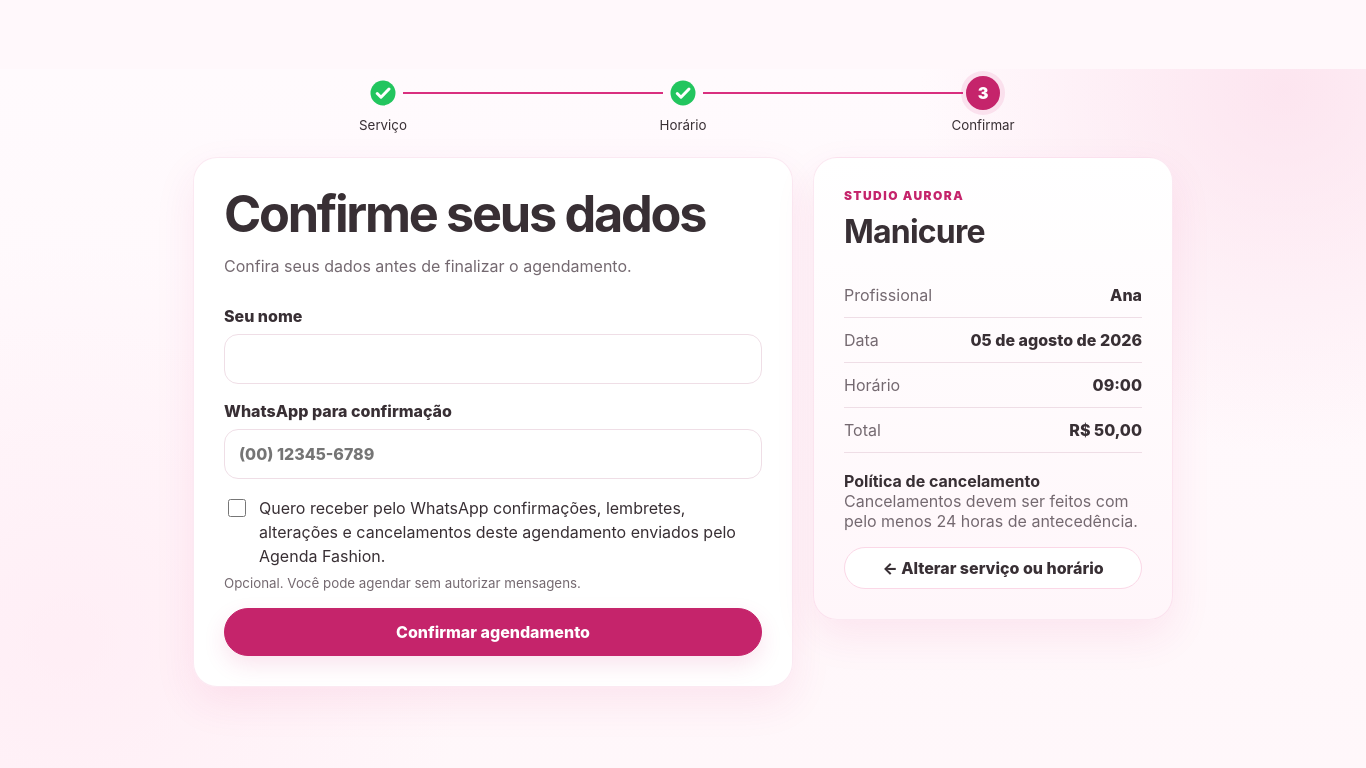
Test: confirmação do agendamento › recarrega e reapresenta a regra quando a política mudou
Expected: the text "Cancelamentos devem ser feitos com pelo menos 24 horas de antecedência." is shown, [844, 491, 1142, 531]
Type "Victor Souza" into the field labelled "Seu nome". click: (493, 359)
box: [224, 334, 762, 384]
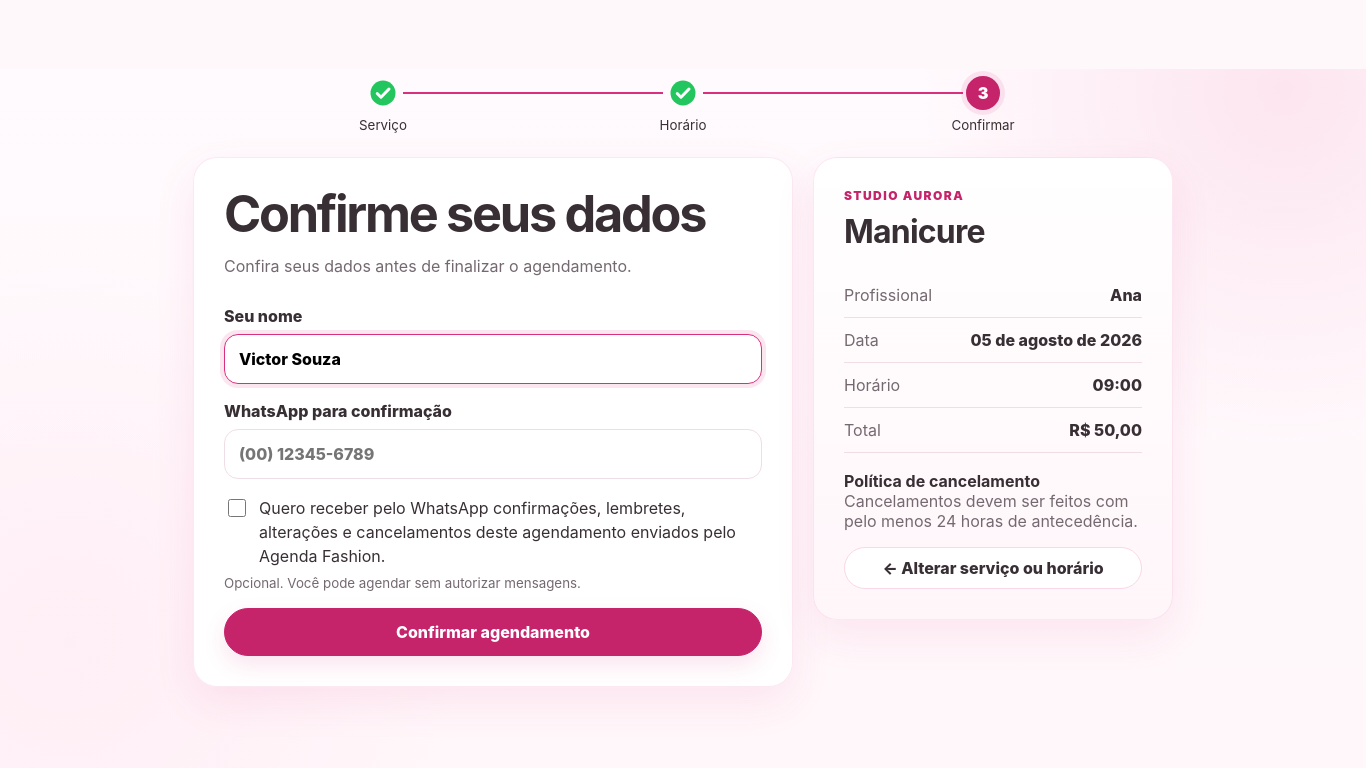
Type "62999998888" into the field labelled "WhatsApp para confirmação". click: (493, 454)
box: [224, 429, 762, 479]
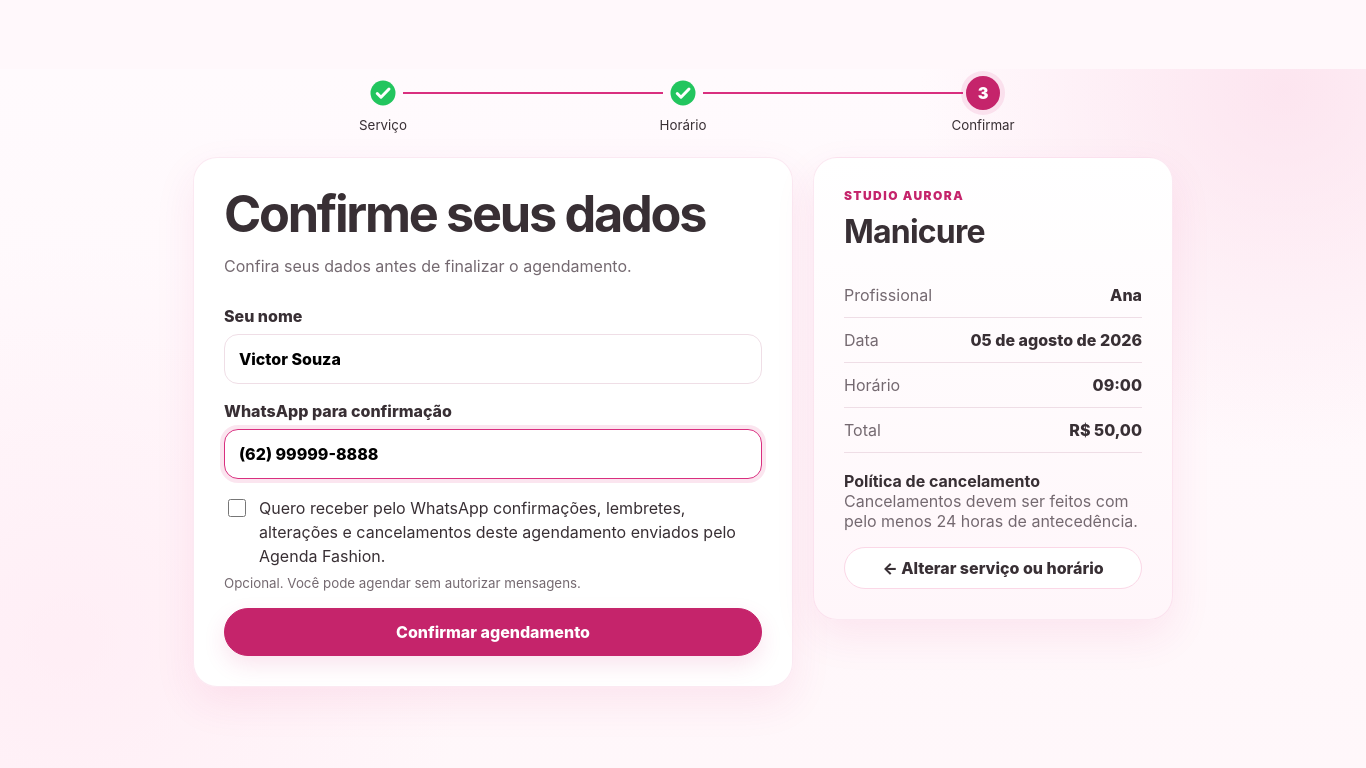
Click the button "Confirmar agendamento". click: (493, 632)
box: [224, 608, 762, 656]
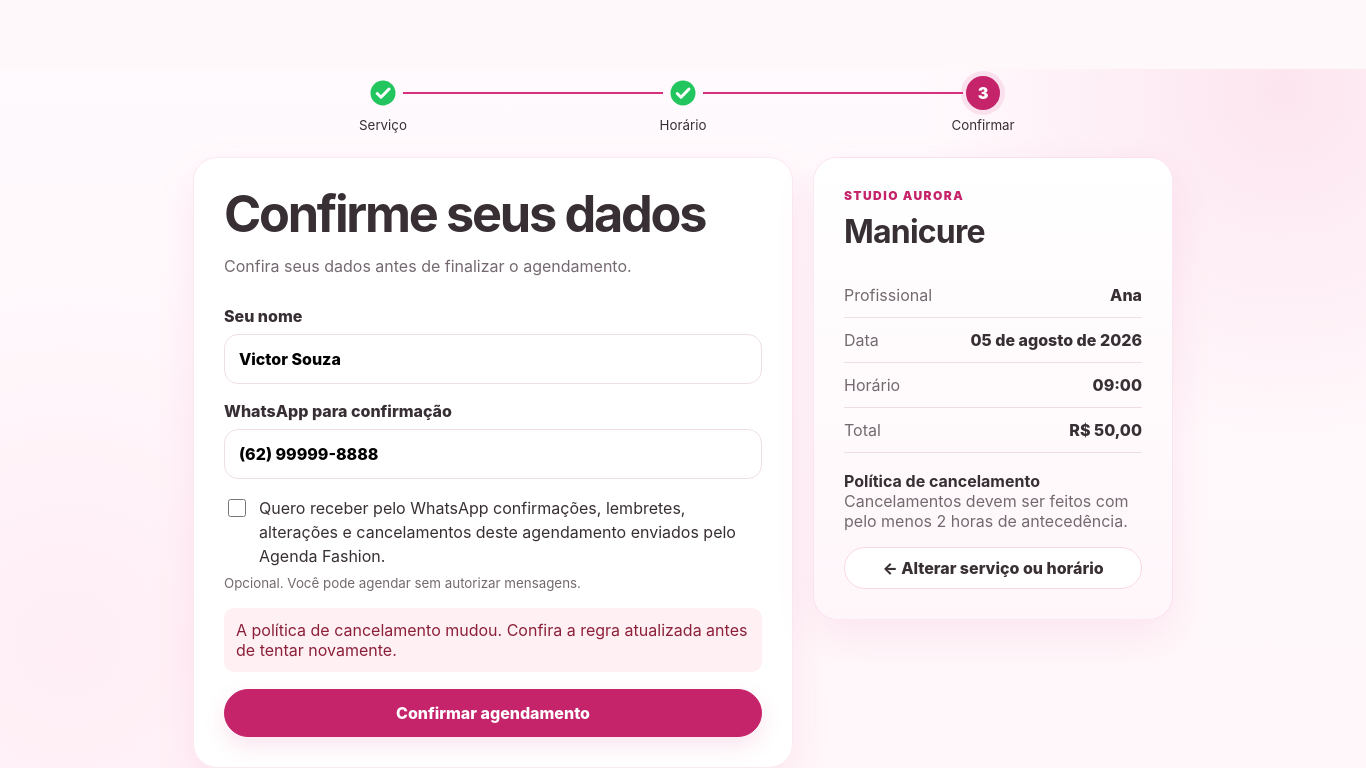
Expected: the message shows "A política de cancelamento mudou", [236, 620, 747, 660]
Expected: the text "Cancelamentos devem ser feitos com pelo menos 2 horas de antecedência." is shown, [844, 491, 1142, 531]
